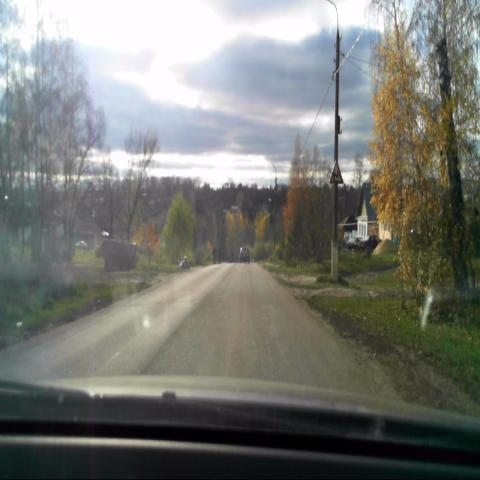1_12: (328, 159, 344, 185)
